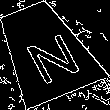N_NW: (12, 20, 78, 82)
